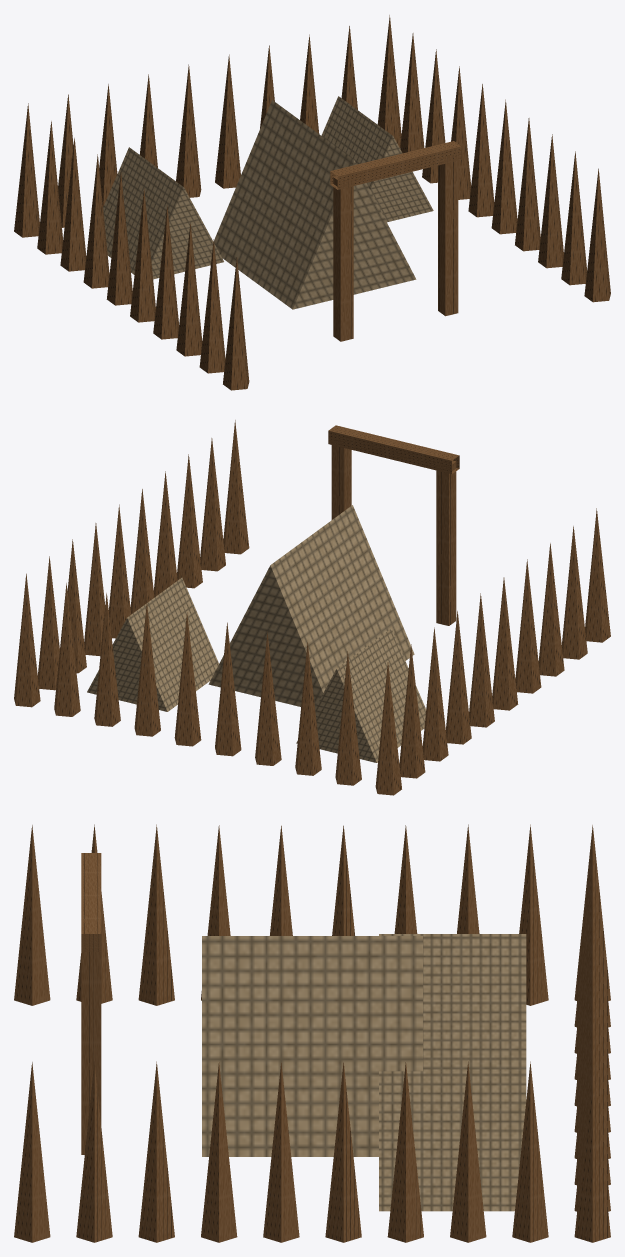
File: military-FORT-1-lod0.glb
3 renders of one model, top to bottom at view 1: azimuth 30°, elevation 25°; view 2: azimuth 150°, elevation 25°; view 3: azimuth 270°, elevation 25°, orthographic. The views are drawn at different scales.
Size of the model in its own units: 0.807 by 0.3335 by 0.8095.
1 material, 1 textured.
